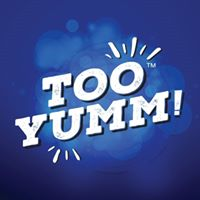tooyumm: (11, 58, 190, 151)
